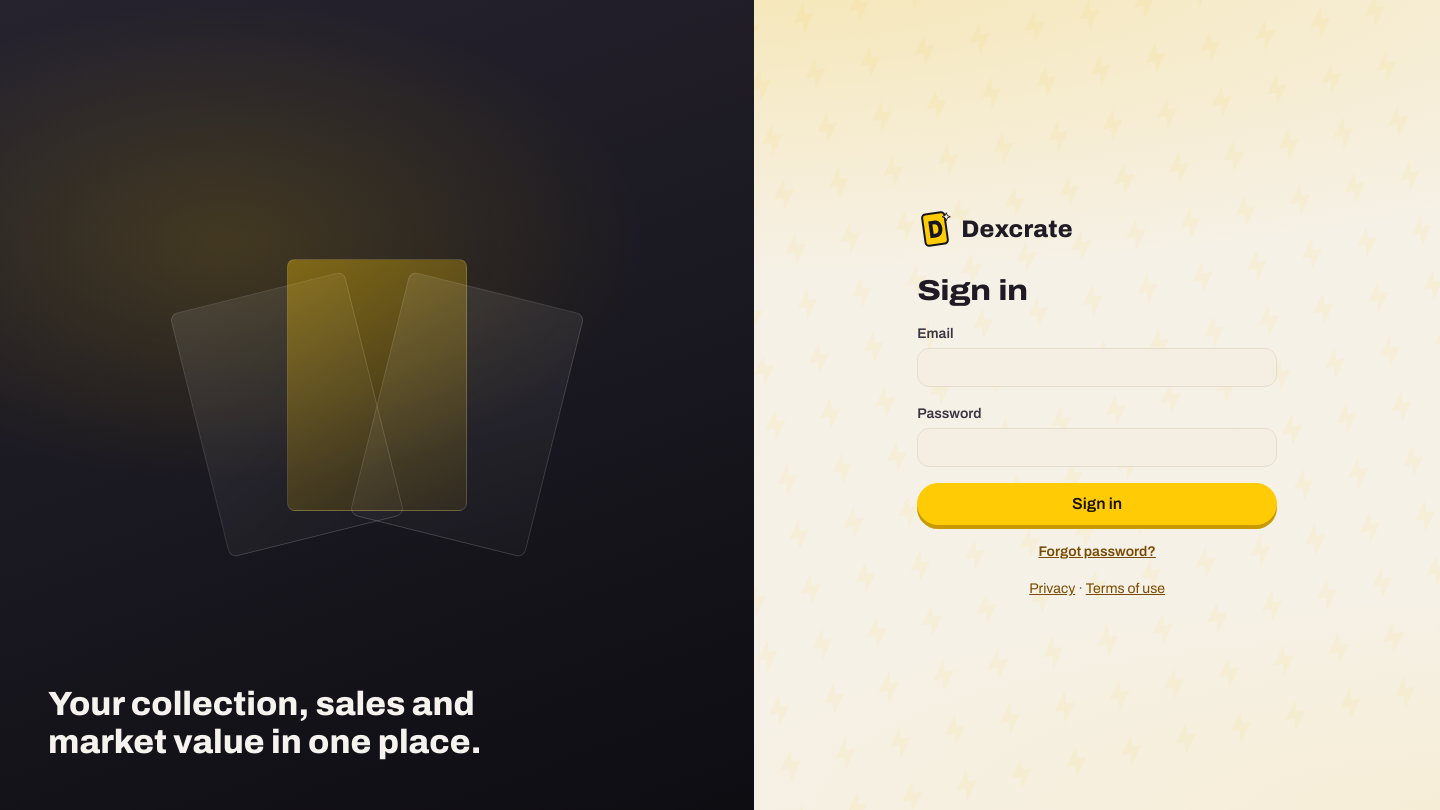
Login (24-10-2026: wachtwoord vergeten, registreren) › inloggen: fout in gewone taal
Type "ash@example.com" into the field labelled "Email".
click(1097, 367); type("ash@example.com")  # box top-left (917, 348), bottom-right (1277, 387)
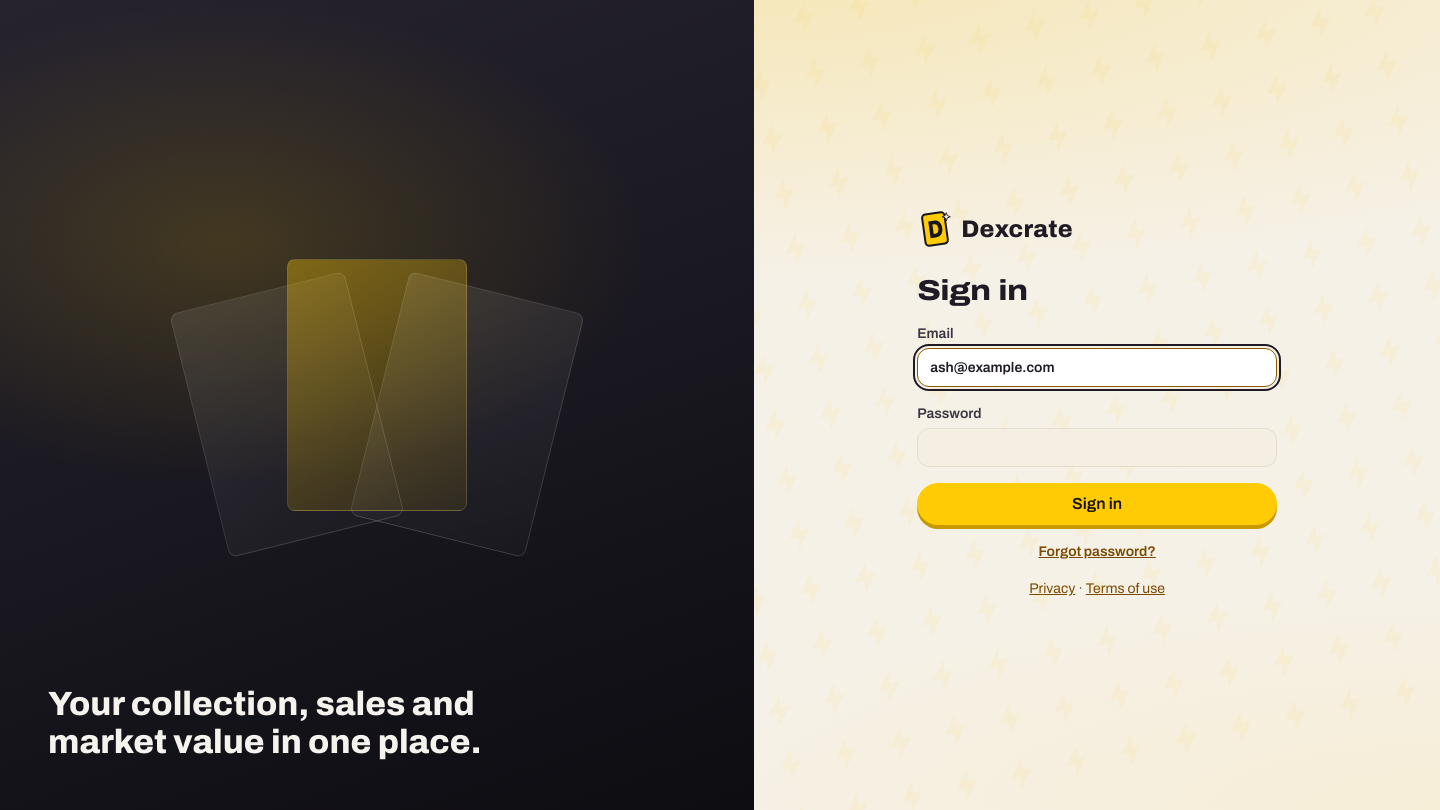
Type "pikapika" into the password field labelled "Password".
click(1097, 447); type("pikapika")  # box top-left (917, 428), bottom-right (1277, 467)
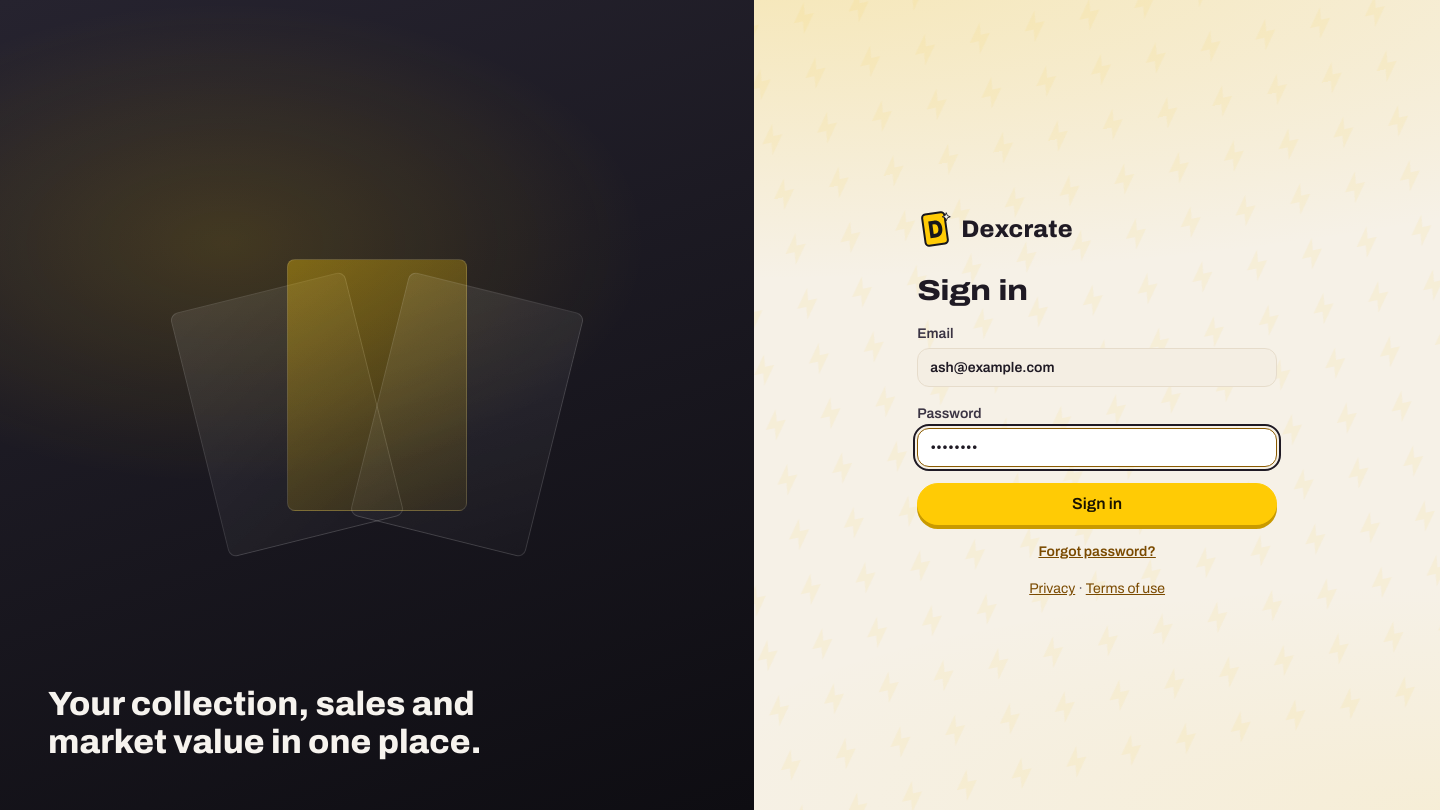
Click the button "Sign in".
click(1097, 504)  # box top-left (917, 483), bottom-right (1277, 525)
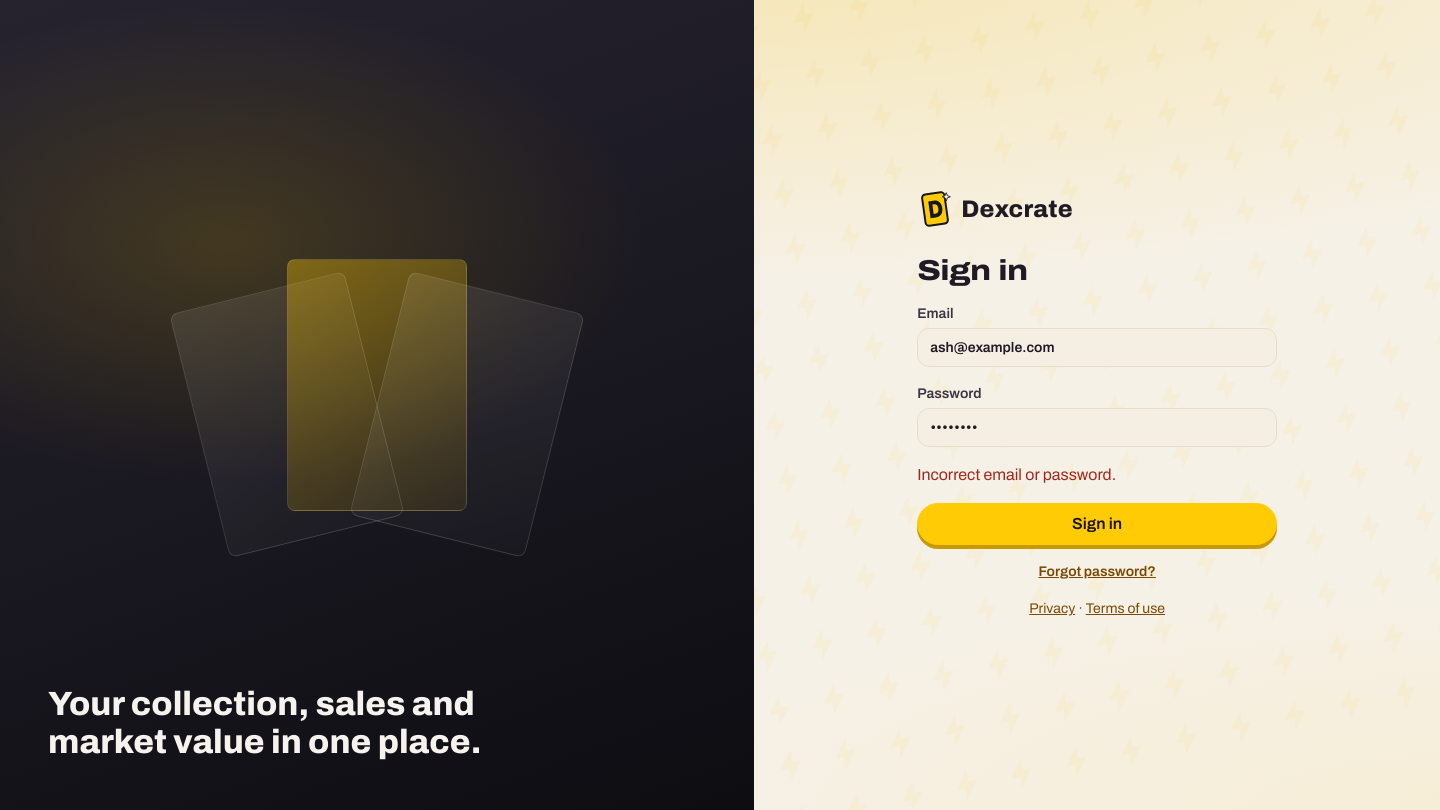
Expected: the message reads "Incorrect email or password.", top-left (917, 466), bottom-right (1116, 483)
